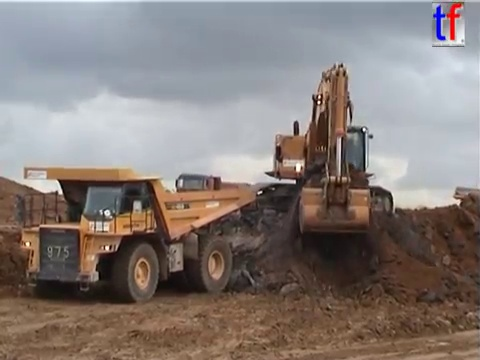excavator: (244, 59, 397, 237)
truck: (14, 164, 258, 305), (173, 171, 255, 211), (450, 185, 480, 209)
